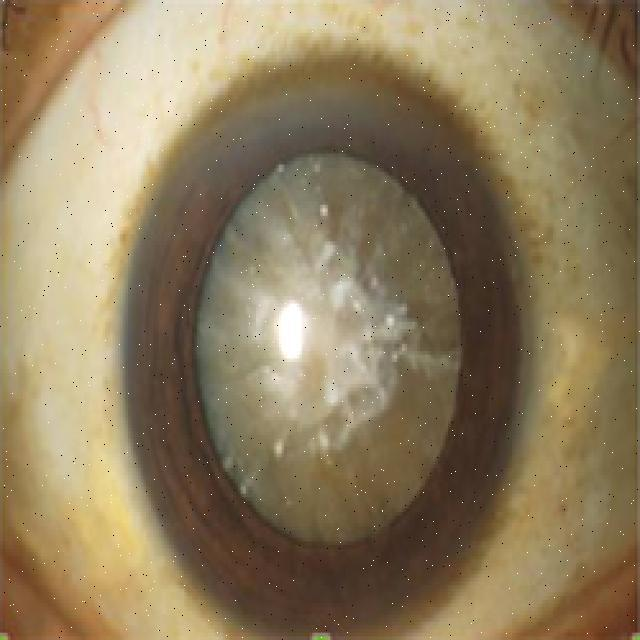Cataract: (107, 57, 593, 590)
